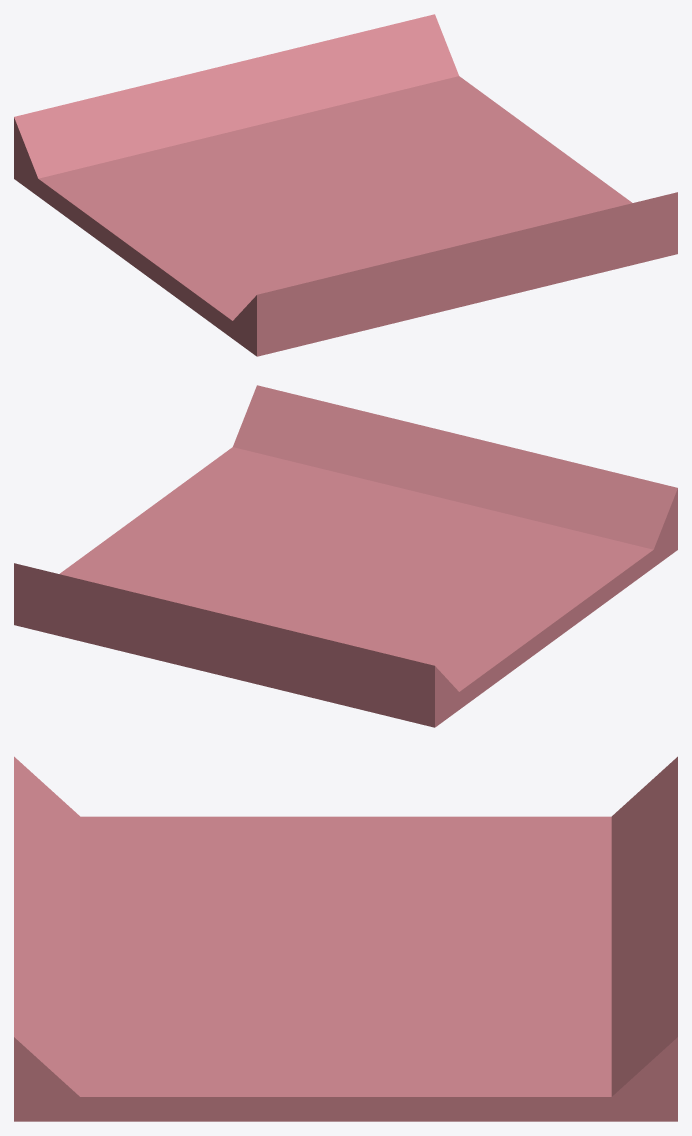
Rendered from roof_high_flat.glb.
3 renders of one model, top to bottom at view 1: azimuth 30°, elevation 25°; view 2: azimuth 150°, elevation 25°; view 3: azimuth 270°, elevation 25°, orthographic. The views are drawn at different scales.
Visible parts, largest first — view 1: roofHighFlat; view 2: roofHighFlat; view 3: roofHighFlat.
Part boxes in pixels (x1,y1,x2,y2): roofHighFlat: (14, 14, 677, 356); roofHighFlat: (14, 385, 677, 727); roofHighFlat: (14, 756, 677, 1121).
Size of the model in its own units: 1 by 0.1407 by 1.
